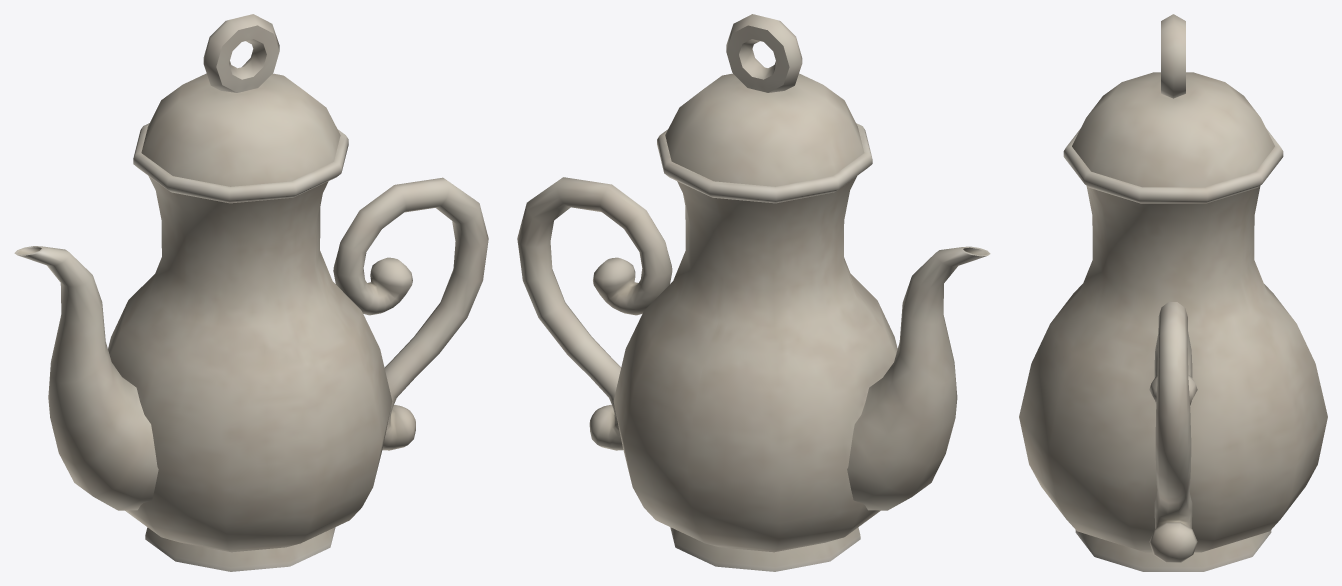
File: sb_obj_indoor020_Pot01.fbx
The picture shows the model from 3 angles, left to right: view 1: azimuth 30°, elevation 25°; view 2: azimuth 150°, elevation 25°; view 3: azimuth 270°, elevation 25°; orthographic projection.
Visible parts, largest first — view 1: sb_obj_indoor020_Pot01; view 2: sb_obj_indoor020_Pot01; view 3: sb_obj_indoor020_Pot01.
Boxes of the visible parts, x1,y1,x2,y2 form: sb_obj_indoor020_Pot01: (14,14,488,571); sb_obj_indoor020_Pot01: (517,14,990,571); sb_obj_indoor020_Pot01: (1019,14,1327,571).
Bounding box in the file's own units: 0.3708 × 0.3888 × 0.2114.
